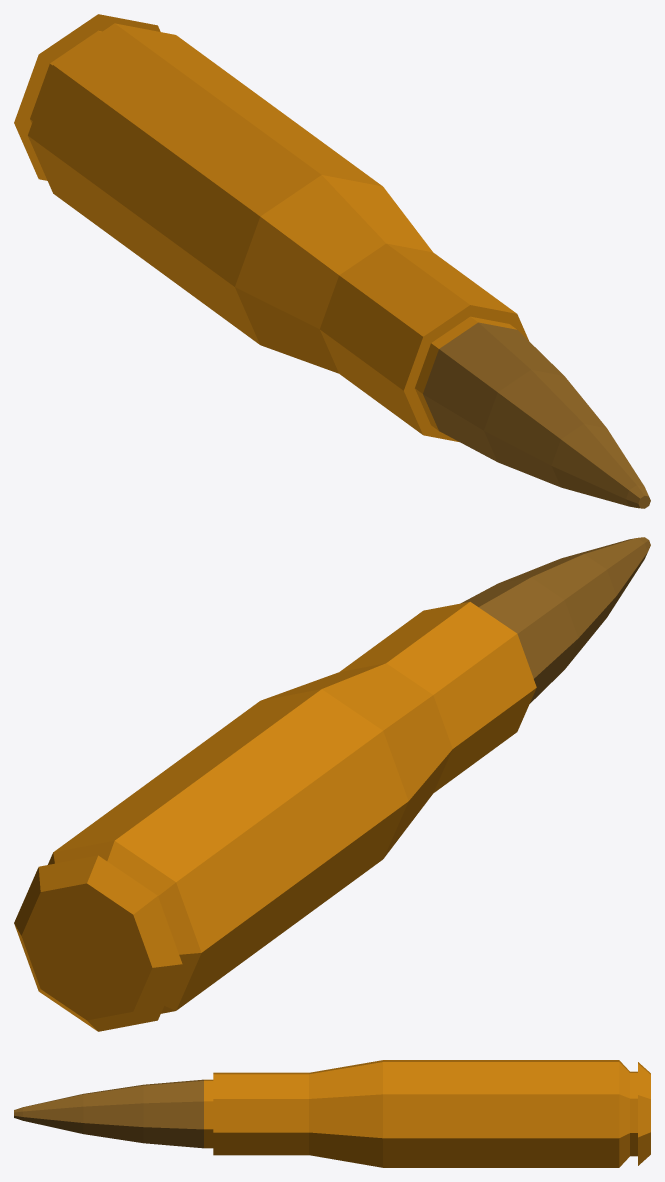
Rendered from Assualt Rifle Bullet.fbx.
The picture shows the model from 3 angles, top to bottom: view 1: azimuth 30°, elevation 25°; view 2: azimuth 150°, elevation 25°; view 3: azimuth 270°, elevation 25°; orthographic projection. The views are drawn at different scales.
Parts seen in each view (by area): view 1: Assualt Rifle Bullet; view 2: Assualt Rifle Bullet; view 3: Assualt Rifle Bullet.
Part boxes in pixels (x1,y1,x2,y2): Assualt Rifle Bullet: [14, 14, 650, 508]; Assualt Rifle Bullet: [14, 537, 650, 1031]; Assualt Rifle Bullet: [14, 1060, 650, 1167].
Size of the model in its own units: 0.0126 by 0.0126 by 0.0699.
